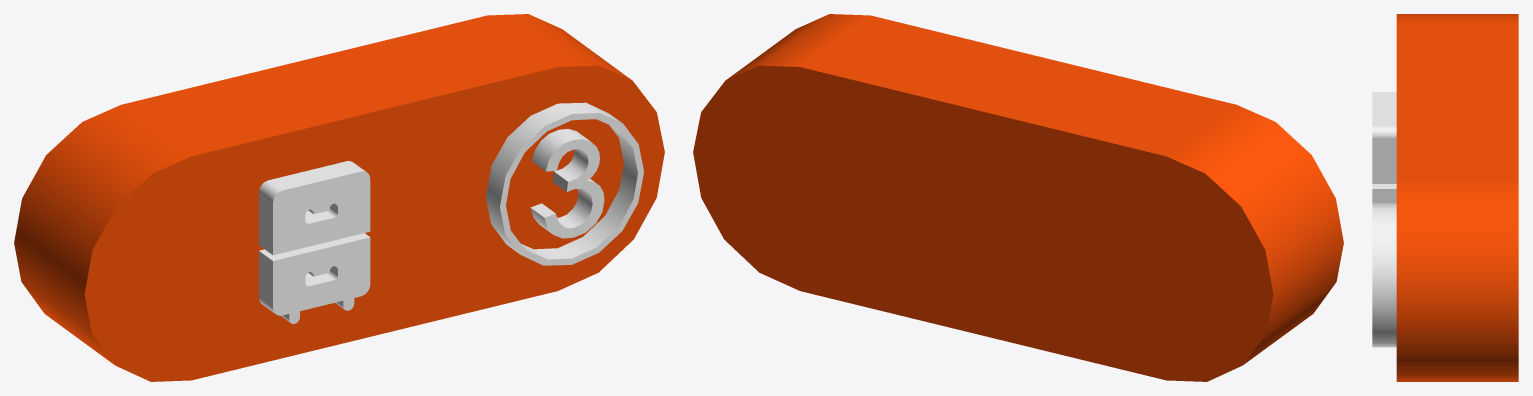
Rendered from Storage_3.fbx.
3 views of the same model, side by side, from view 1: azimuth 30°, elevation 25°; view 2: azimuth 150°, elevation 25°; view 3: azimuth 270°, elevation 25° (orthographic). The views are drawn at different scales.
Visible parts, largest first — view 1: Orange, Object_2, Object_4, Object_5, Object_8; view 2: Orange; view 3: Orange, Object_2, Object_4, Object_5.
Boxes of the visible parts, bbox=[...] form: Orange: bbox=[14, 14, 664, 381]; Object_2: bbox=[485, 102, 643, 265]; Object_4: bbox=[259, 161, 370, 255]; Object_5: bbox=[259, 233, 370, 315]; Object_8: bbox=[530, 129, 604, 238]; Orange: bbox=[693, 14, 1343, 381]; Orange: bbox=[1396, 14, 1518, 381]; Object_2: bbox=[1372, 203, 1396, 347]; Object_4: bbox=[1372, 92, 1396, 183]; Object_5: bbox=[1372, 184, 1396, 203].
Bounding box in the file's own units: 4.75 × 1.2 × 1.75.
